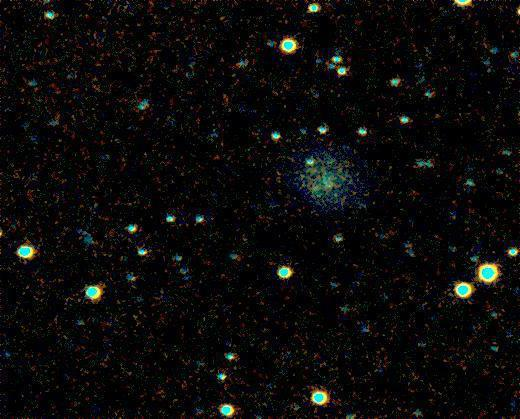star: (317, 164, 347, 194)
